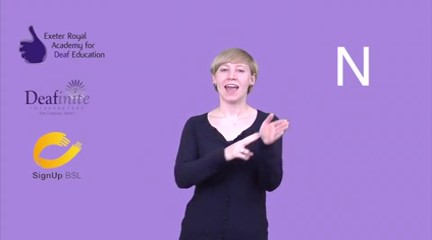N: (216, 108, 295, 166)
